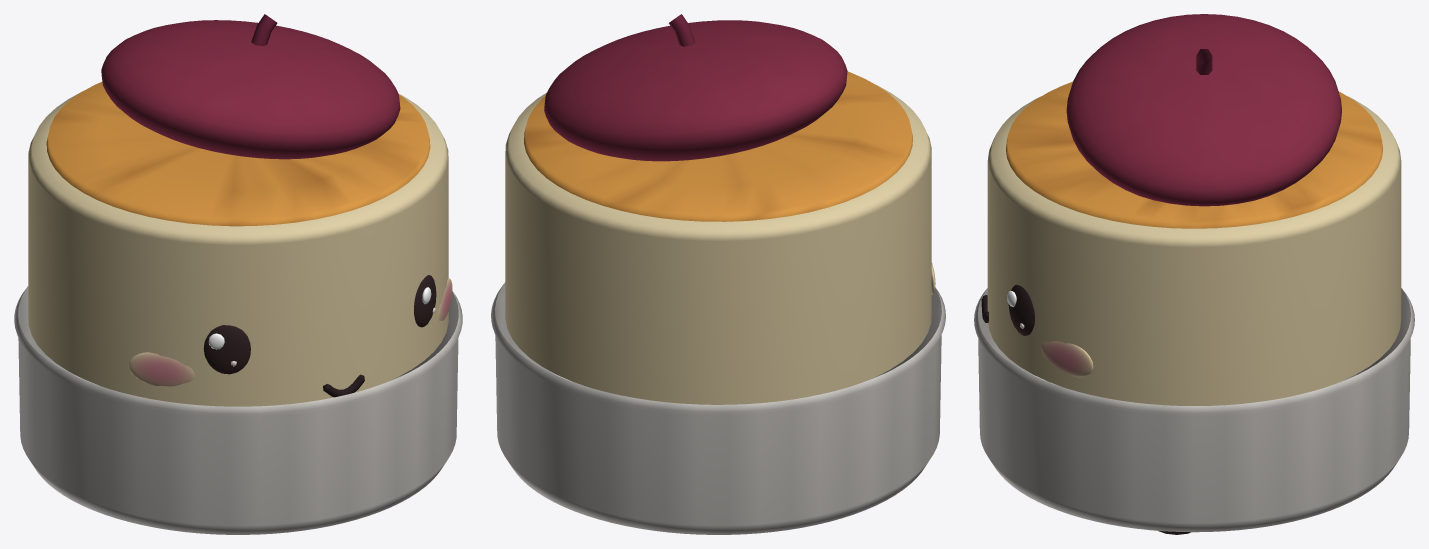
The model's file is folk_brulee.glb.
The picture shows the model from 3 angles, left to right: view 1: azimuth 30°, elevation 25°; view 2: azimuth 150°, elevation 25°; view 3: azimuth 270°, elevation 25°; orthographic projection. The views are drawn at different scales.
Visible parts, largest first — view 1: brulee_body, brulee_gloss, brulee_eye_l, brulee_eye_r; view 2: brulee_body, brulee_gloss; view 3: brulee_body, brulee_gloss, brulee_eye_r.
Part boxes in pixels (x1,y1,x2,y2): brulee_body: (14,14,462,534); brulee_gloss: (46,82,430,226); brulee_eye_l: (203,325,250,374); brulee_eye_r: (414,275,436,327); brulee_body: (491,14,945,534); brulee_gloss: (524,71,912,221); brulee_body: (974,14,1414,532); brulee_gloss: (1006,81,1382,228); brulee_eye_r: (1007,284,1034,335).
Size of the model in its own units: 0.9274 by 1.05 by 0.9274.
